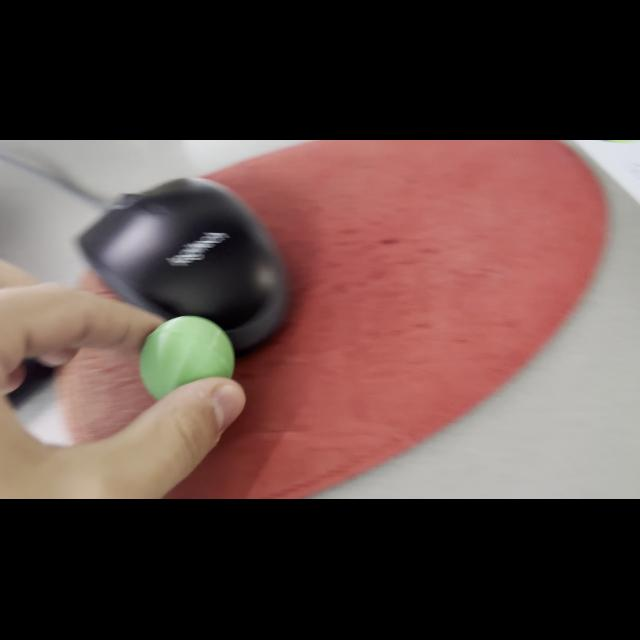objects: (132, 308, 238, 404)
